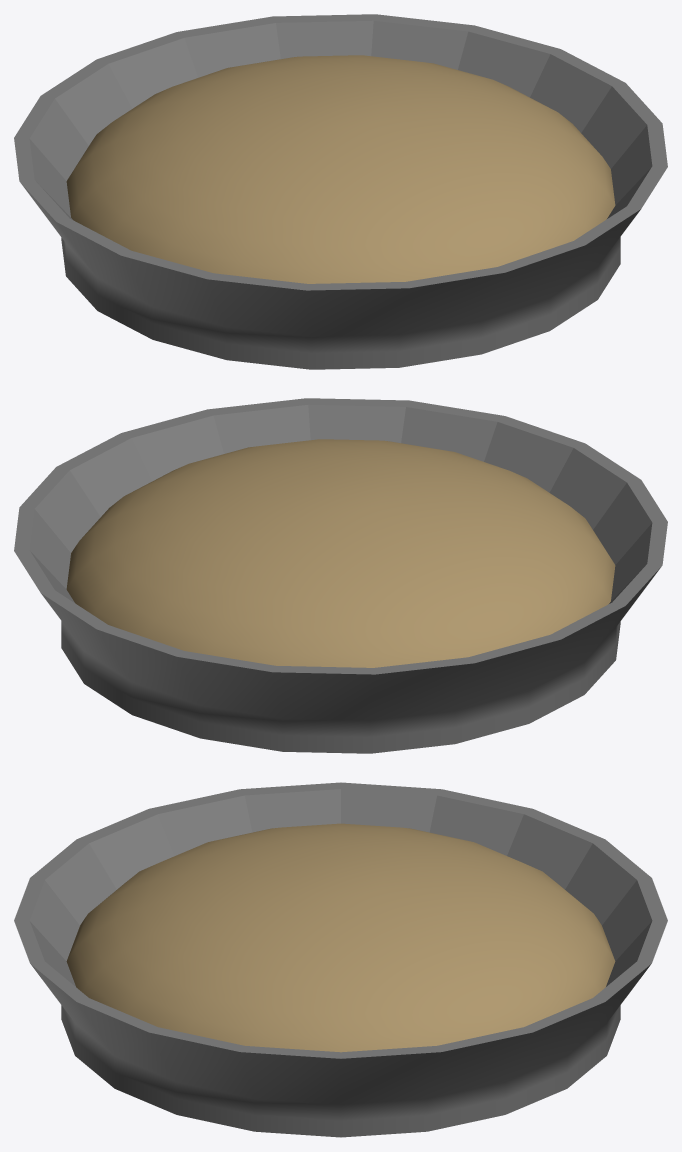
The model's file is croquette.fbx.
3 renders of one model, top to bottom at view 1: azimuth 30°, elevation 25°; view 2: azimuth 150°, elevation 25°; view 3: azimuth 270°, elevation 25°, orthographic.
Parts seen in each view (by area): view 1: pCylinder5; view 2: pCylinder5; view 3: pCylinder5.
Boxes of the visible parts, x1=… form: pCylinder5: x1=14, y1=14, x2=667, y2=369; pCylinder5: x1=14, y1=398, x2=667, y2=753; pCylinder5: x1=14, y1=782, x2=667, y2=1137.
Size of the model in its own units: 2.34 by 0.5627 by 2.34.
